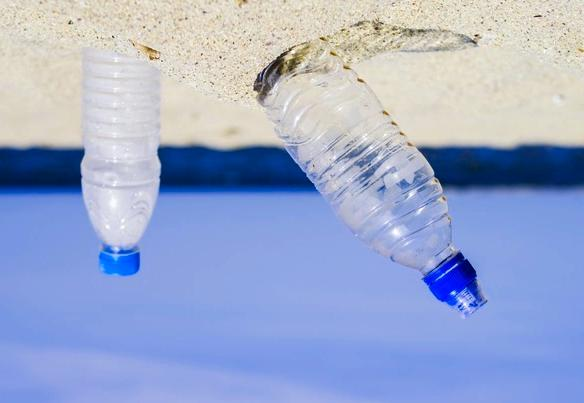Plastic: (249, 17, 495, 325), (75, 28, 166, 280)
